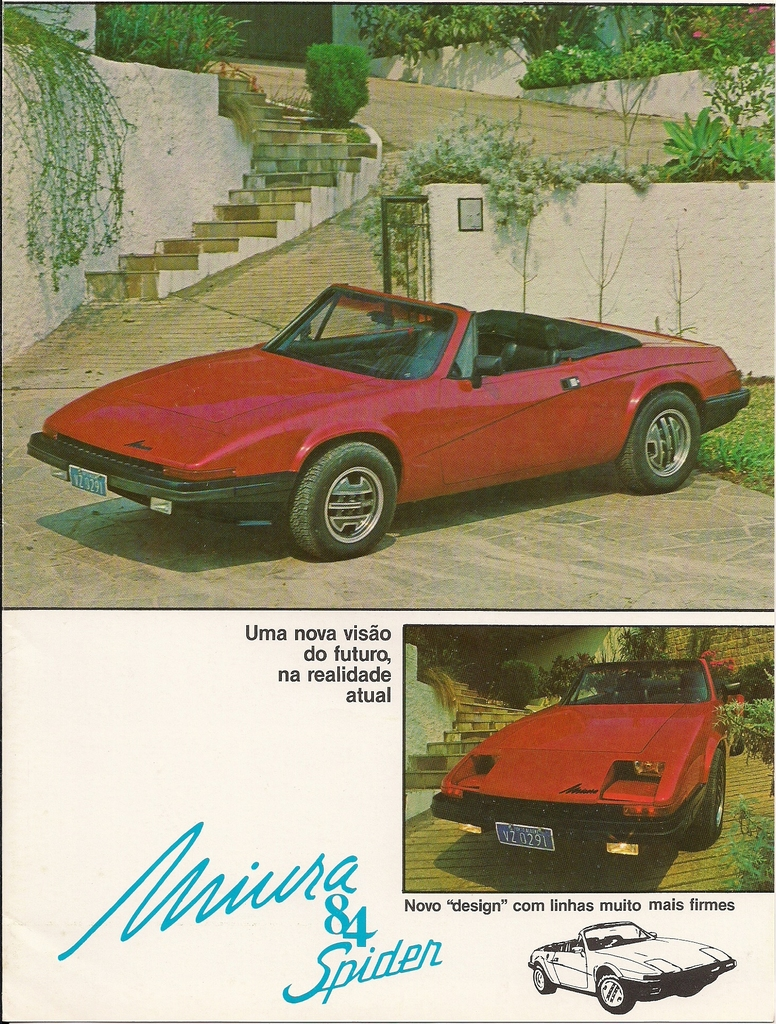Car: (20, 277, 747, 554), (434, 662, 727, 872), (528, 917, 733, 1012)
